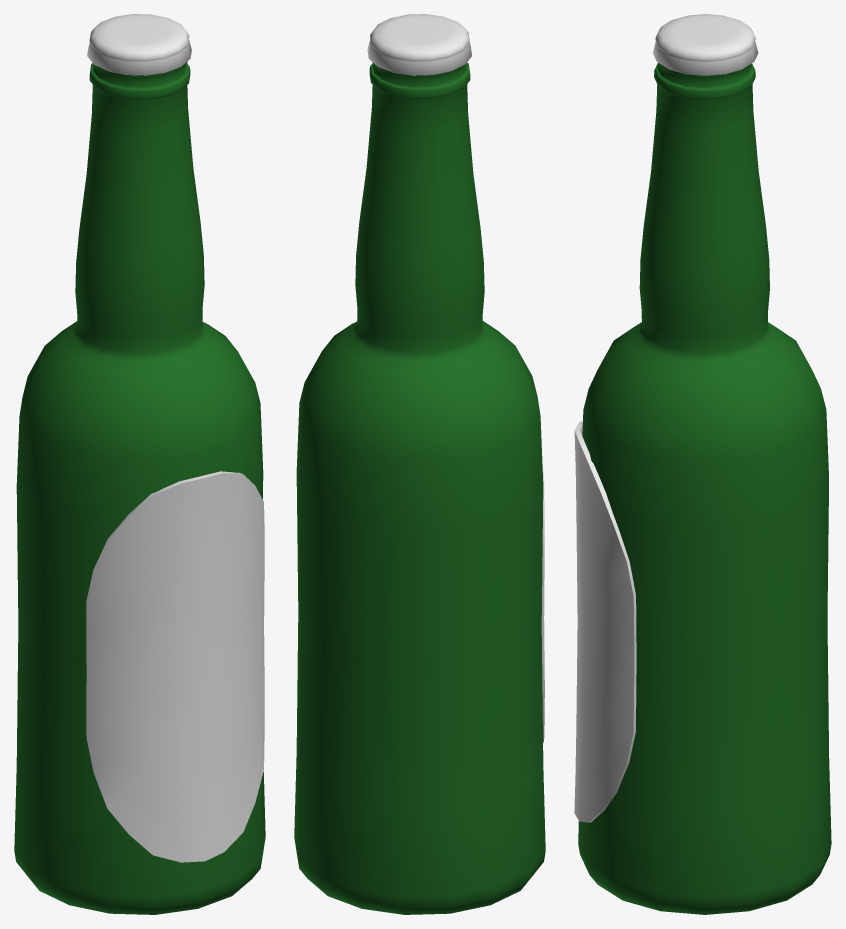
Rendered from MESH_Bottle_O.fbx.
3 views of the same model, side by side, from view 1: azimuth 30°, elevation 25°; view 2: azimuth 150°, elevation 25°; view 3: azimuth 270°, elevation 25° (orthographic).
Visible parts, largest first — view 1: Bottle_O; view 2: Bottle_O; view 3: Bottle_O.
Boxes of the visible parts, box(x1,y1,x2,y2) form: Bottle_O: box(14, 14, 265, 914); Bottle_O: box(294, 14, 545, 914); Bottle_O: box(574, 14, 831, 914).
Bounding box in the file's own units: 12.9 × 47.28 × 13.1.
